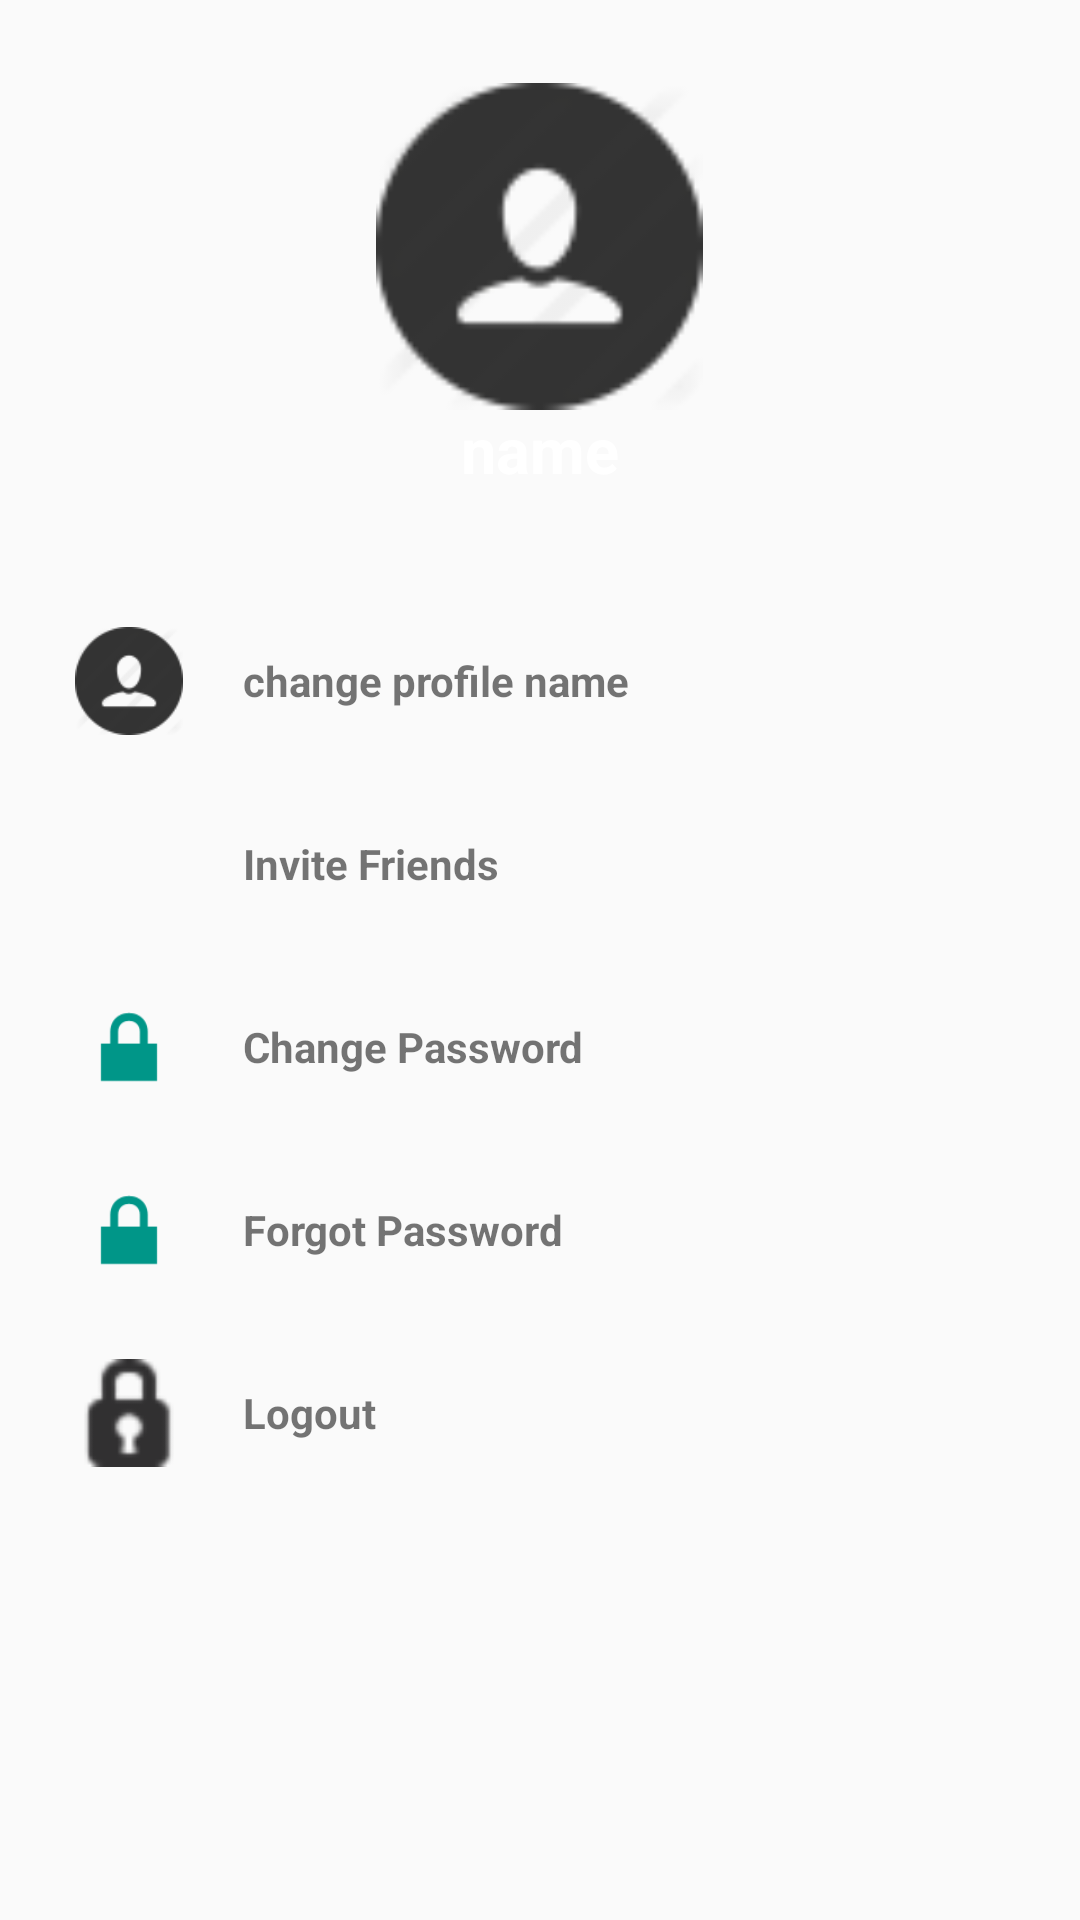

Icon bounding boxes for this 1080w x 1920h phone screenshot, format (x1, y1, x2, y2):
user profile: (376, 83, 703, 410), (75, 627, 183, 735)
